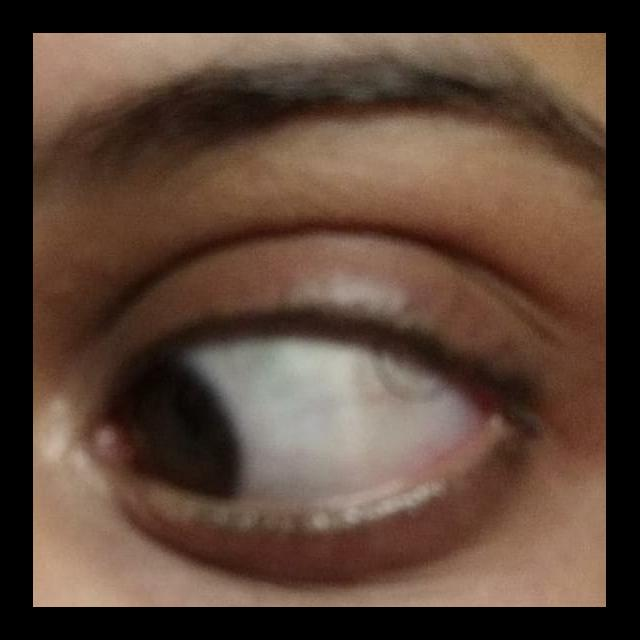eye: (117, 325, 492, 509)
iris: (124, 350, 244, 498)
